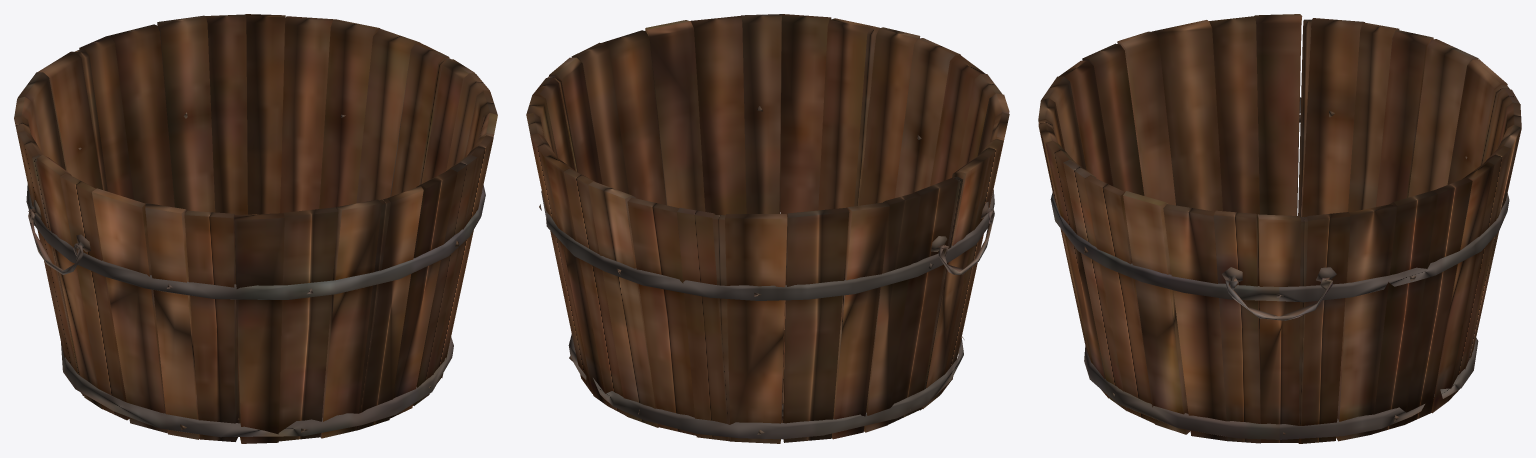
The model's file is bucket-wooden-02.lite.c61c6cf7.glb.
3 renders of one model, left to right at view 1: azimuth 30°, elevation 25°; view 2: azimuth 150°, elevation 25°; view 3: azimuth 270°, elevation 25°, orthographic.
Parts seen in each view (by area): view 1: model; view 2: model; view 3: model.
Part boxes in pixels (box(x1,y1,x2,y2)): model: box(14, 14, 497, 443); model: box(526, 14, 1009, 443); model: box(1038, 14, 1521, 443).
Bounding box in the file's own units: 0.6111 × 0.3503 × 0.6124.
1 material, 1 textured.
